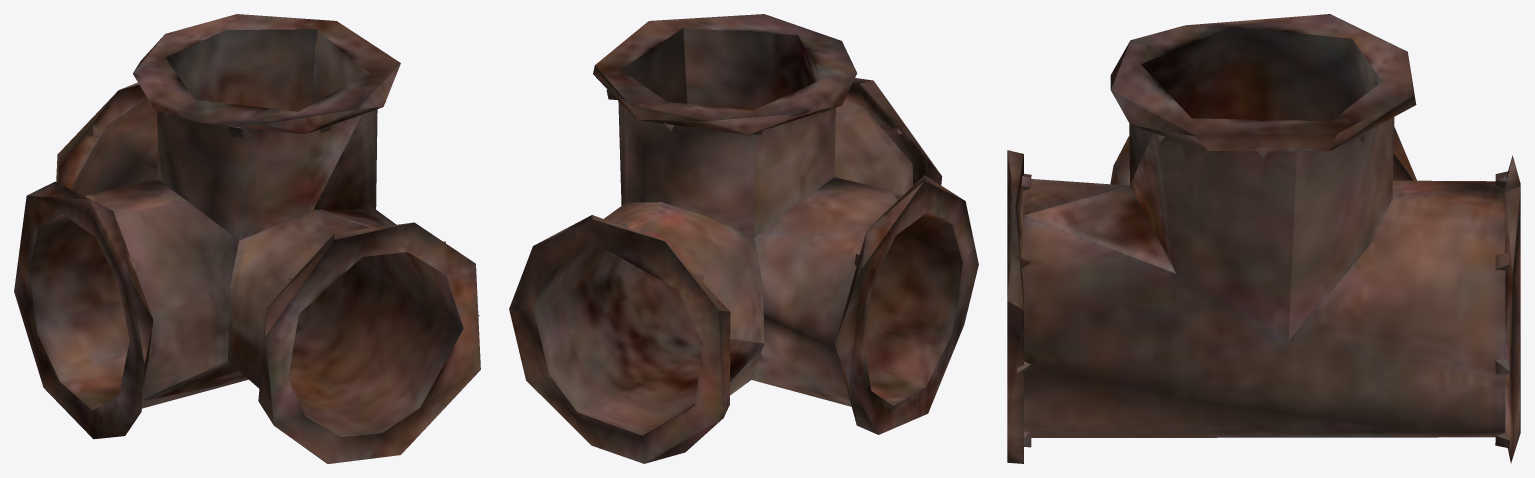
Rendered from rusty_pipe_12.glb.
3 views of the same model, side by side, from view 1: azimuth 30°, elevation 25°; view 2: azimuth 150°, elevation 25°; view 3: azimuth 270°, elevation 25° (orthographic). The views are drawn at different scales.
Parts seen in each view (by area): view 1: rusty_pipe_12; view 2: rusty_pipe_12; view 3: rusty_pipe_12.
Part boxes in pixels (box(x1,y1,x2,y2)): rusty_pipe_12: box(14, 14, 480, 463); rusty_pipe_12: box(509, 14, 978, 463); rusty_pipe_12: box(1007, 14, 1520, 463).
Size of what is drawn, in the model's own units: 0.0387 by 0.0385 by 0.0479.
Materials: 1 (1 with a texture image).
